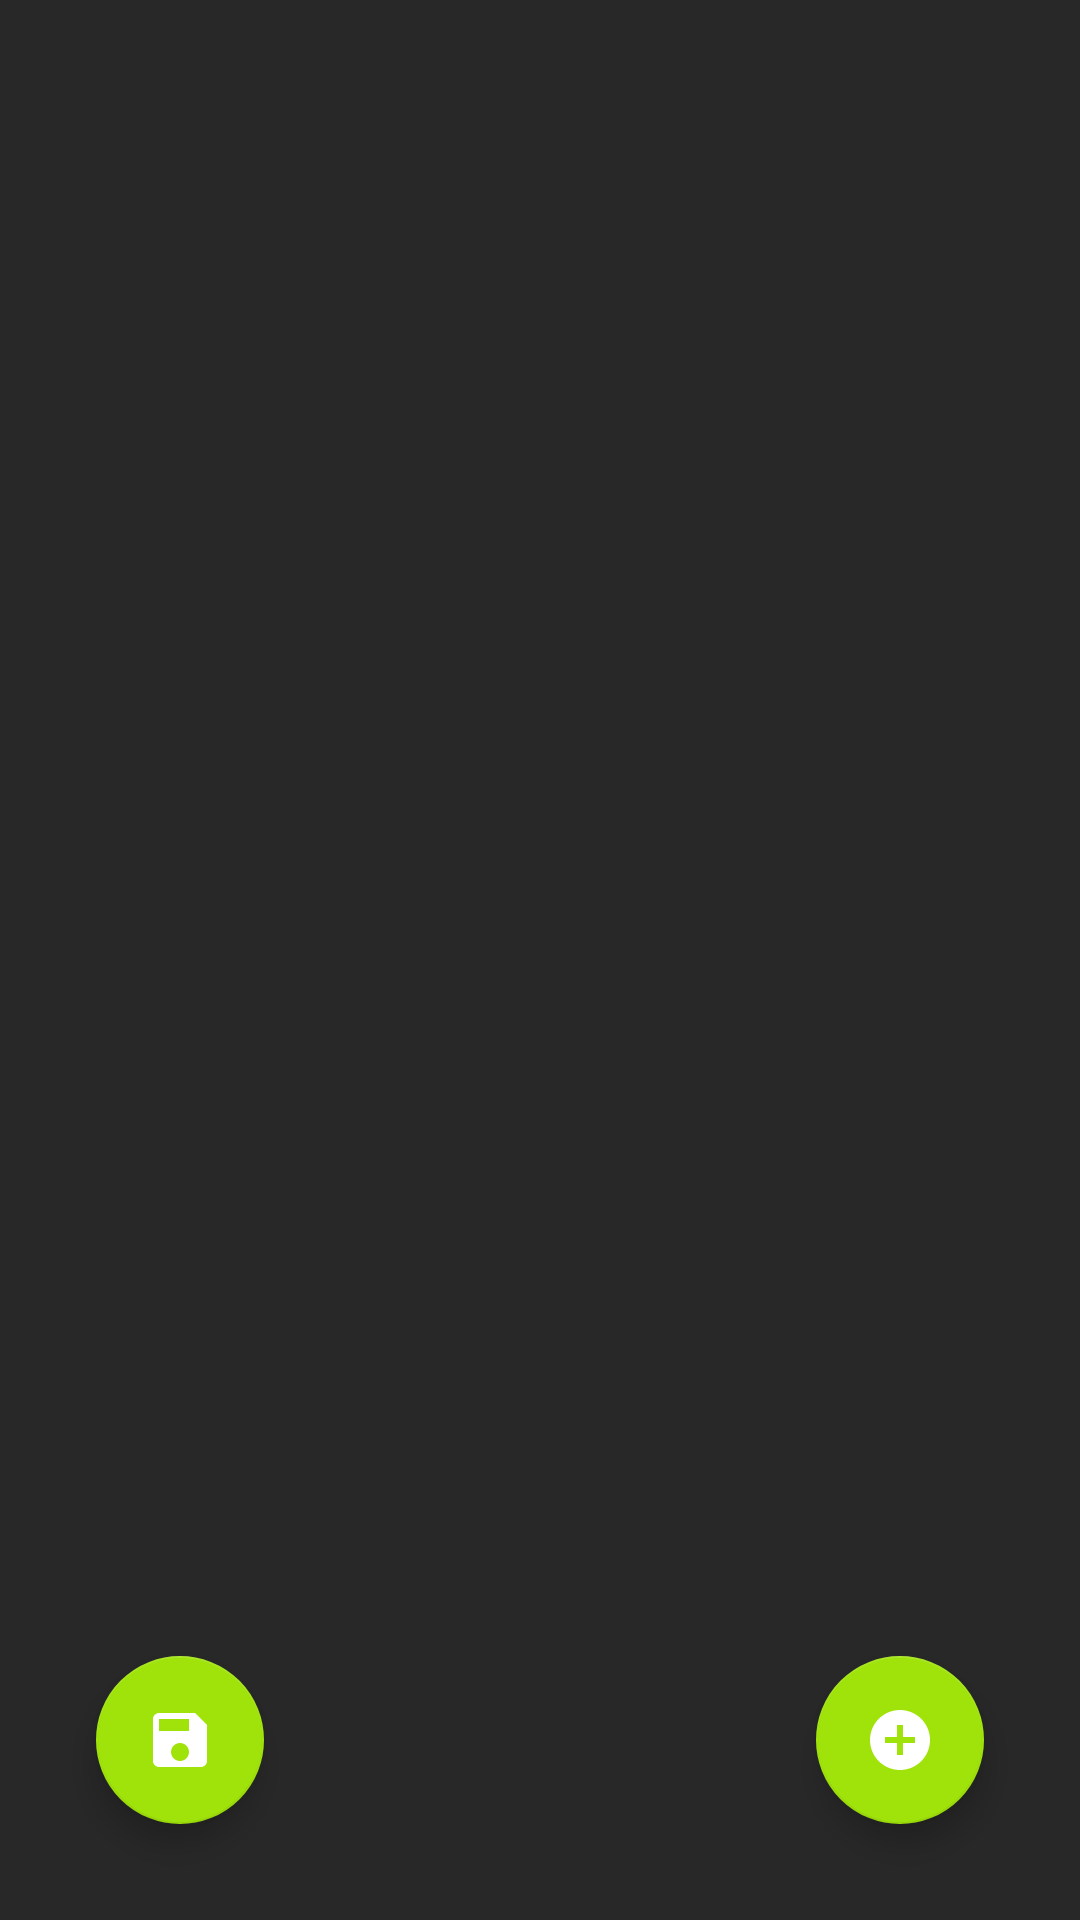

Icons on this 1080 x 1920 Android screen, each with the point to tap as point (x, y):
add circle: point (900, 1740)
save: point (180, 1740)
